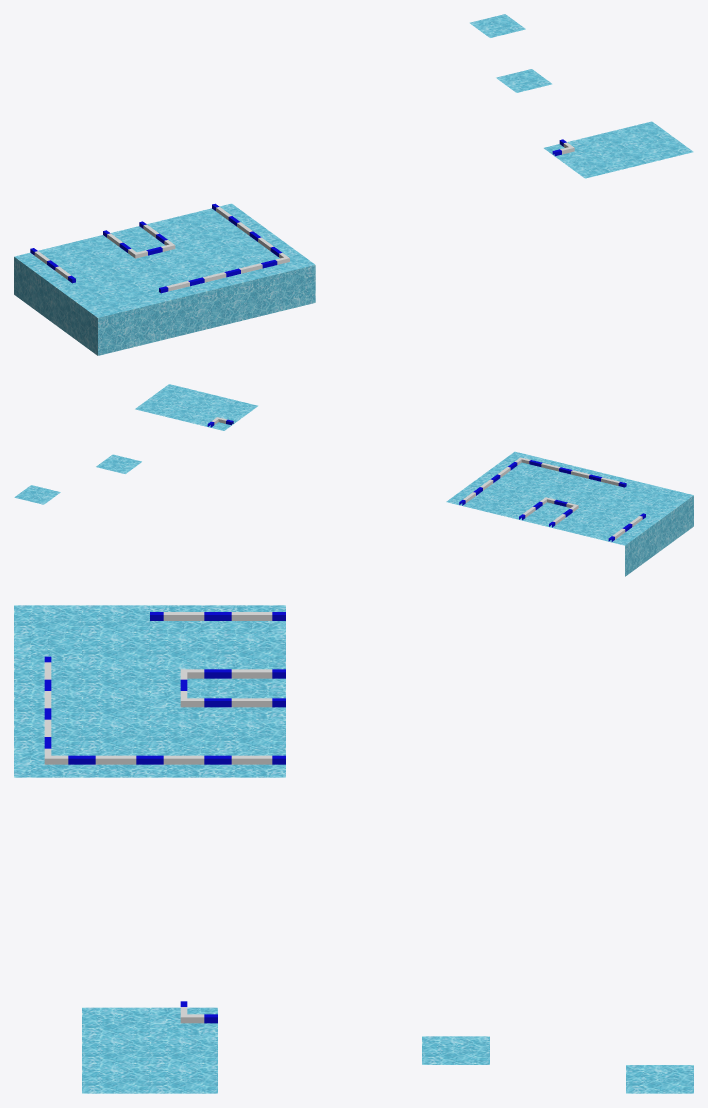
File: circuit_2_I.fbx
The picture shows the model from 3 angles, top to bottom: view 1: azimuth 30°, elevation 25°; view 2: azimuth 150°, elevation 25°; view 3: azimuth 270°, elevation 25°; orthographic projection. The views are drawn at different scales.
Parts seen in each view (by area): view 1: pPlane105; view 2: pPlane105; view 3: pPlane105.
Boxes of the visible parts, left/top/right/bottom form: pPlane105: left=14, top=14, right=693, bottom=355; pPlane105: left=14, top=384, right=693, bottom=576; pPlane105: left=14, top=605, right=693, bottom=1093.
Size of the model in its own units: 850 by 55 by 500.
Materials: 3 (1 with a texture image).
